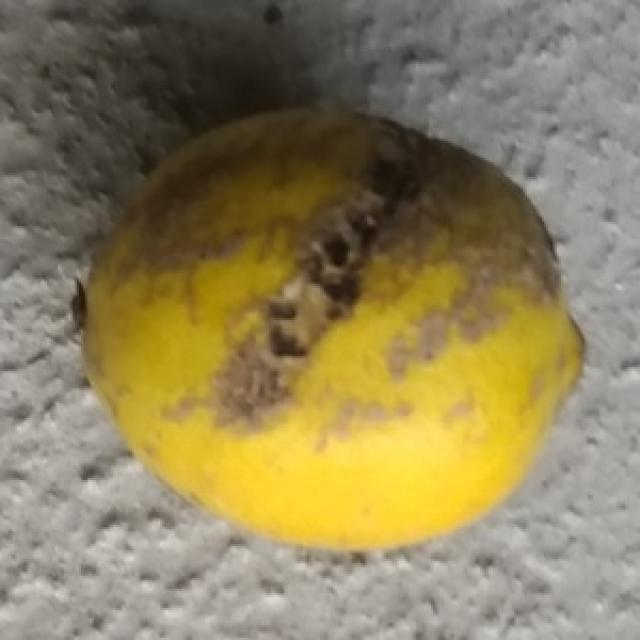overripe: (66, 105, 588, 555)
